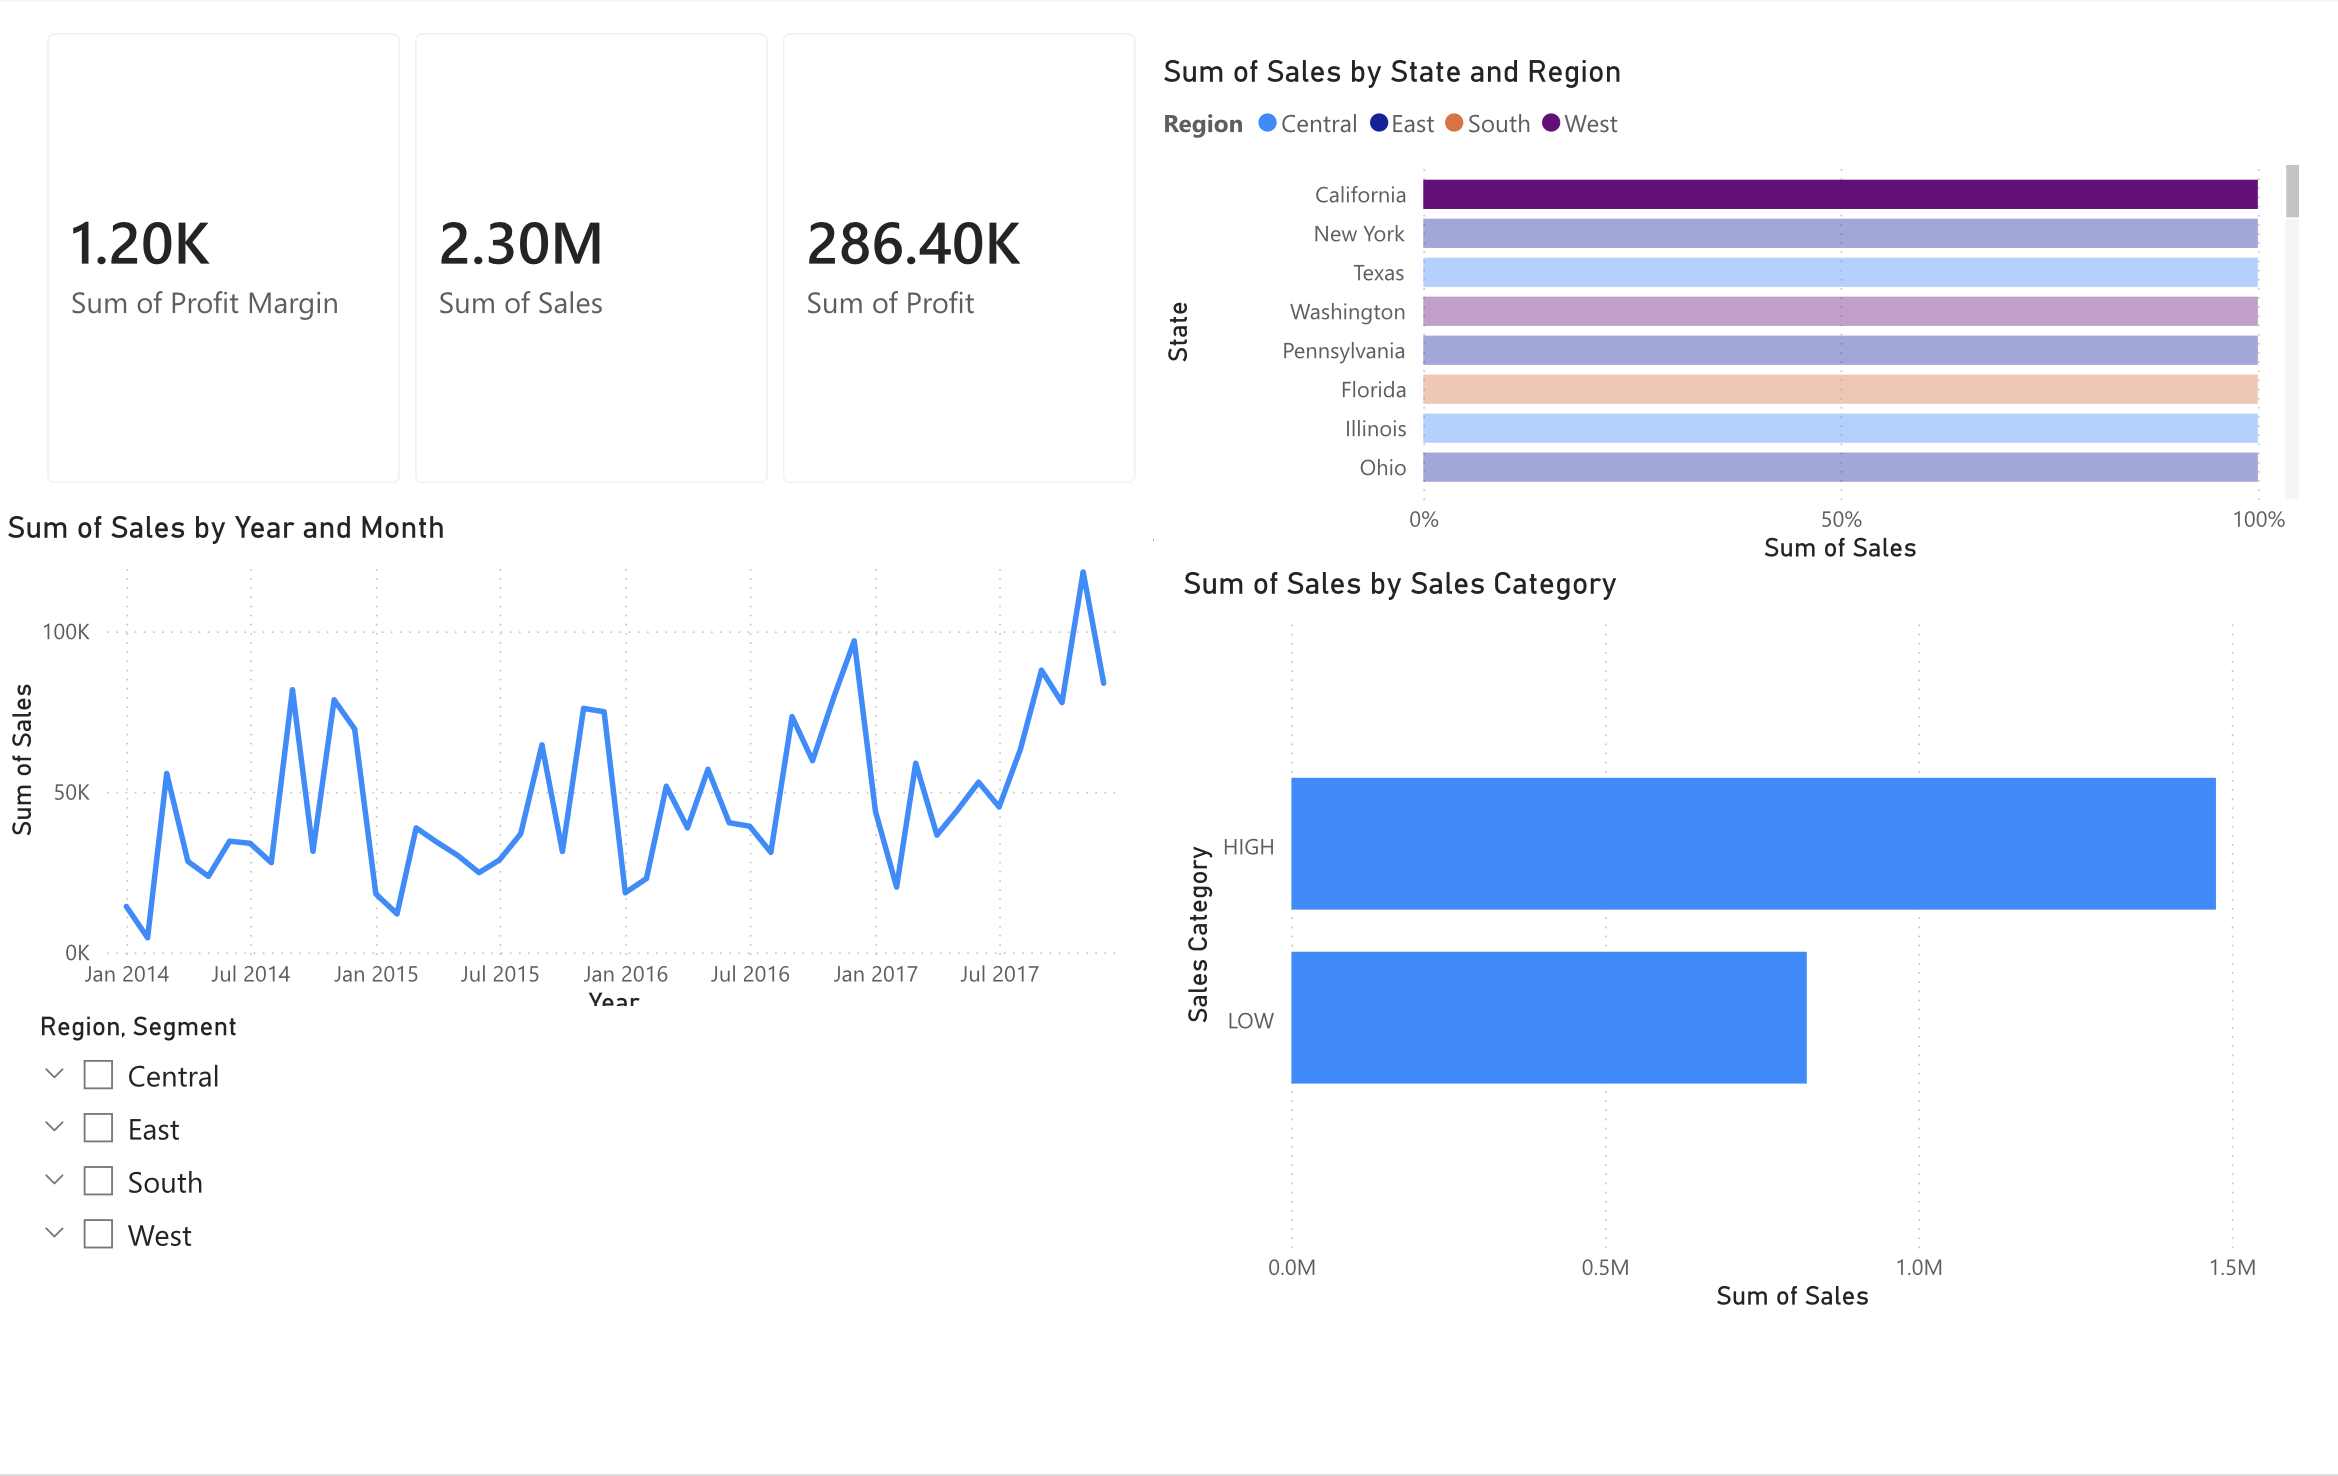

What the dashboard file says about the page in this screenshot:
{"tool":"powerbi","page":{"name":"Page 1","canvas":[1280,720],"ordinal":0},"visuals":[{"type":"cardVisual","fields":{"Data":["Sum(Sample - Superstore.Profit Margin)","Sum(Sample - Superstore.Sales)","Sum(Sample - Superstore.Profit)"]},"box":[9.5,0,631.3,280.1],"z":0},{"type":"lineChart","fields":{"Y":["Sum(Sample - Superstore.Sales)"],"Category":["Sample - Superstore.Order Date.Variation.Date Hierarchy.Year","Sample - Superstore.Order Date.Variation.Date Hierarchy.Month"]},"box":[0,280.1,631.3,280.1],"z":1},{"type":"clusteredBarChart","fields":{"Category":["Sample - Superstore.Sales Category","Sample - Superstore.Order Date.Variation.Date Hierarchy.Year"],"Y":["Sum(Sample - Superstore.Sales)"]},"box":[642.4,310.1,631.3,409.8],"z":2},{"type":"hundredPercentStackedBarChart","fields":{"Category":["Sample - Superstore.State"],"Series":["Sample - Superstore.Region"],"Y":["Sum(Sample - Superstore.Sales)"]},"box":[631.3,30.1,631.3,280.1],"z":3},{"type":"slicer","fields":{"Values":["Sample - Superstore.Region","Sample - Superstore.Segment"]},"box":[9.5,549,632.9,170.9],"z":4}]}

Visuals, with their boxes on the page's 1280x720 design canvas (x1, y1, x2, y2). These are canvas units, not pixel positions in the 2338x1476 screenshot, which may show the page scaled, cropped or inside an application window:
cardVisual - Sum(Sample - Superstore.Profit Margin) x Sum(Sample - Superstore.Sales): select_region(10, 0, 641, 280)
lineChart - Sum(Sample - Superstore.Sales) x Sample - Superstore.Order Date.Variation.Date Hierarchy.Year: select_region(0, 280, 631, 560)
clusteredBarChart - Sample - Superstore.Sales Category x Sample - Superstore.Order Date.Variation.Date Hierarchy.Year: select_region(642, 310, 1274, 720)
hundredPercentStackedBarChart - Sample - Superstore.State x Sample - Superstore.Region: select_region(631, 30, 1263, 310)
slicer - Sample - Superstore.Region x Sample - Superstore.Segment: select_region(10, 549, 642, 720)
